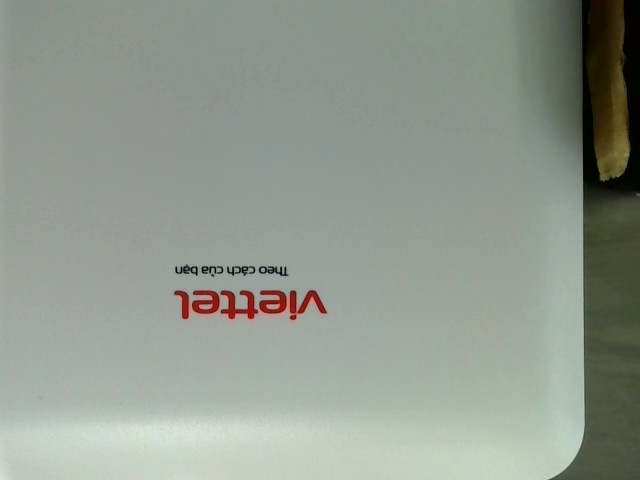AY_Viettel: (173, 260, 332, 320)
